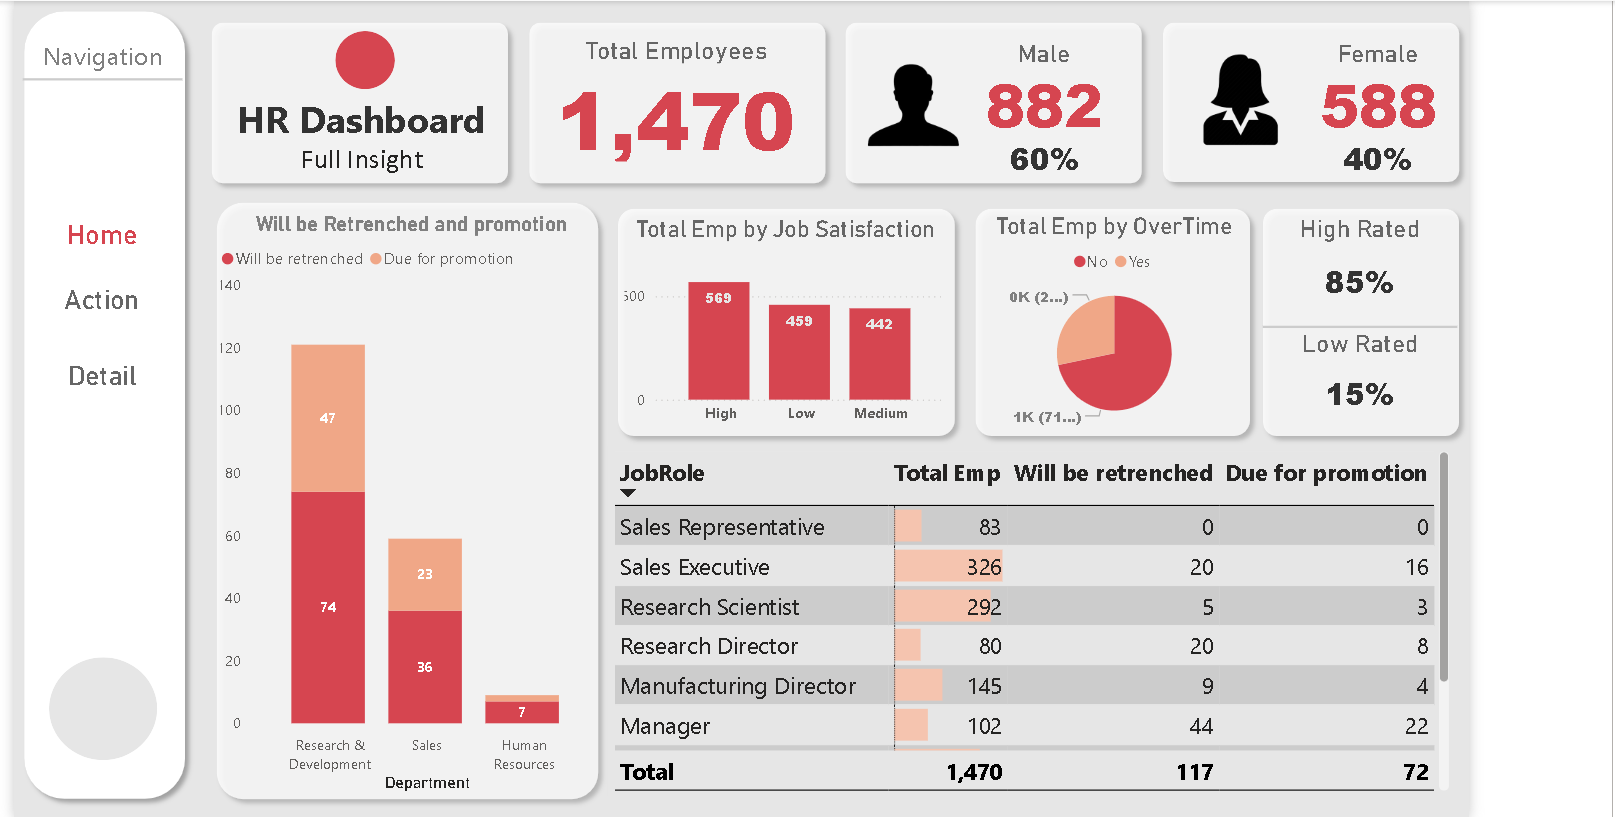

This screenshot's page, from the dashboard's own definition file:
{"tool":"powerbi","page":{"name":"Home","canvas":[1280,720],"ordinal":0},"visuals":[{"type":"shape","box":[6,9.5,159.5,710.7],"z":0},{"type":"shape","box":[165.5,9.5,278.6,159.5],"z":1000},{"type":"shape","box":[444,9.5,278.6,159.5],"z":2000},{"type":"shape","box":[722.6,9.5,278.6,159.5],"z":3000},{"type":"shape","box":[1001.2,9.5,278.6,158.3],"z":4000},{"type":"shape","box":[173.8,181,365.5,529.8],"z":5000},{"type":"shape","box":[539.3,181,340.5,291.7],"z":6000},{"type":"shape","box":[539.3,472.6,340.5,238.1],"z":7000},{"type":"shape","box":[879.8,181,260.7,175],"z":8000},{"type":"shape","box":[1140.5,181,139.3,175],"z":9000},{"type":"shape","box":[879.8,356,400,354.8],"z":10000},{"type":"textbox","box":[177.5,77.5,257.5,66.2],"z":11000},{"type":"textbox","box":[176.2,118.8,260,50],"z":12000},{"type":"shape","box":[282.5,26.2,52.5,51.2],"z":13000},{"type":"card","title":"Total Employees","fields":{"Values":["All Measures.Total Emp"]},"box":[470,31.2,226.2,115],"z":14000},{"type":"card","title":"Male","fields":{"Values":["All Measures.Male"]},"box":[837.5,33.8,137.5,87.5],"z":15000},{"type":"card","title":"Male","fields":{"Values":["All Measures.% Male"]},"box":[855,115,102.5,47.5],"z":16000},{"type":"card","title":"Female","fields":{"Values":["All Measures.Female"]},"box":[1131.2,33.8,137.5,87.5],"z":17000},{"type":"card","title":"Male","fields":{"Values":["All Measures.% Female"]},"box":[1148.8,115,102.5,47.5],"z":18000},{"type":"image","box":[701.2,10,178.8,163.8],"z":19000},{"type":"image","box":[1018.8,31.2,121.2,112.5],"z":20000},{"type":"card","title":"Due for Promtion","fields":{"Values":["All Measures.Due for promotion"]},"box":[185.7,247.9,342.9,127.4],"z":21000},{"type":"card","fields":{"Values":["All Measures.% Due for promotion"]},"box":[184.5,359.5,342.9,58.3],"z":22000},{"type":"card","title":"Not Due","fields":{"Values":["All Measures.Not Due"]},"box":[185.7,482.1,342.9,127.4],"z":23000},{"type":"card","fields":{"Values":["All Measures.% Not Due"]},"box":[185.7,591.7,342.9,58.3],"z":24000},{"type":"shape","box":[185.7,439.3,341.7,15.5],"z":25000},{"type":"barChart","title":"Service Year","fields":{"Category":["HR Analytics Data.Service Year"],"Y":["All Measures.Total Emp"]},"box":[551.2,192.9,320.2,270.2],"z":26000},{"type":"columnChart","title":"Job Levels","fields":{"Category":["HR Analytics Data.Job Levels"],"Y":["All Measures.Total Emp"]},"box":[551.2,482.1,320.2,228.6],"z":27000},{"type":"card","title":"Active Workers","fields":{"Values":["All Measures.On Service"]},"box":[889.3,203.6,242.9,86.9],"z":28000},{"type":"card","title":"Male","fields":{"Values":["All Measures.% On Service"]},"box":[889.3,290.5,241.7,47.6],"z":29000},{"type":"card","title":"Retreanch","fields":{"Values":["All Measures.Will be retreanched"]},"box":[1148.8,203.6,131,86.9],"z":30000},{"type":"card","title":"Male","fields":{"Values":["All Measures.%Will be Retreanched"]},"box":[1148.8,288.1,119,47.6],"z":31000},{"type":"donutChart","title":"Distance from office","fields":{"Category":["HR Analytics Data.Distance status"],"Y":["All Measures.Total Emp"]},"box":[889.3,365.5,378.6,334.5],"z":32000},{"type":"shape","box":[38.1,576.2,95.2,90.5],"z":33000},{"type":"textbox","box":[15.5,26.2,140.5,46.4],"z":34000},{"type":"shape","box":[15.5,58.3,140.5,19],"z":35000},{"type":"actionButton","title":"Home","box":[15.4,190.7,140.1,30.2],"z":36000},{"type":"actionButton","title":"Action","box":[15.3,247.7,139.8,56.7],"z":37000},{"type":"actionButton","title":"Detail","box":[15.3,314.9,139.8,58],"z":38000}]}

Visuals, with their boxes on the page's 1280x720 design canvas (x1, y1, x2, y2). These are canvas units, not pixel positions in the 1615x817 screenshot, which may show the page scaled, cropped or inside an application window:
shape: box=[6, 10, 166, 720]
shape: box=[166, 10, 444, 169]
shape: box=[444, 10, 723, 169]
shape: box=[723, 10, 1001, 169]
shape: box=[1001, 10, 1280, 168]
shape: box=[174, 181, 539, 711]
shape: box=[539, 181, 880, 473]
shape: box=[539, 473, 880, 711]
shape: box=[880, 181, 1140, 356]
shape: box=[1140, 181, 1280, 356]
shape: box=[880, 356, 1280, 711]
textbox: box=[178, 78, 435, 144]
textbox: box=[176, 119, 436, 169]
shape: box=[282, 26, 335, 77]
"Total Employees" card: box=[470, 31, 696, 146]
"Male" card: box=[838, 34, 975, 121]
"Male" card: box=[855, 115, 958, 162]
"Female" card: box=[1131, 34, 1269, 121]
"Male" card: box=[1149, 115, 1251, 162]
image: box=[701, 10, 880, 174]
image: box=[1019, 31, 1140, 144]
"Due for Promtion" card: box=[186, 248, 529, 375]
card - All Measures.% Due for promotion: box=[184, 360, 527, 418]
"Not Due" card: box=[186, 482, 529, 610]
card - All Measures.% Not Due: box=[186, 592, 529, 650]
shape: box=[186, 439, 527, 455]
"Service Year" barChart: box=[551, 193, 871, 463]
"Job Levels" columnChart: box=[551, 482, 871, 711]
"Active Workers" card: box=[889, 204, 1132, 290]
"Male" card: box=[889, 290, 1131, 338]
"Retreanch" card: box=[1149, 204, 1280, 290]
"Male" card: box=[1149, 288, 1268, 336]
"Distance from office" donutChart: box=[889, 366, 1268, 700]
shape: box=[38, 576, 133, 667]
textbox: box=[16, 26, 156, 73]
shape: box=[16, 58, 156, 77]
"Home" actionButton: box=[15, 191, 156, 221]
"Action" actionButton: box=[15, 248, 155, 304]
"Detail" actionButton: box=[15, 315, 155, 373]
